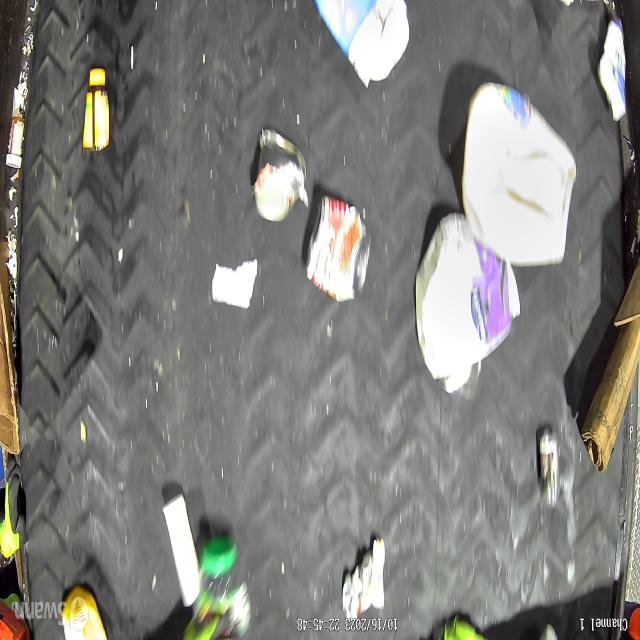can: (305, 193, 371, 301), (251, 126, 307, 224)
milk_jug: (461, 80, 576, 269)
non_white_jug: (416, 212, 520, 380), (307, 1, 412, 84)
